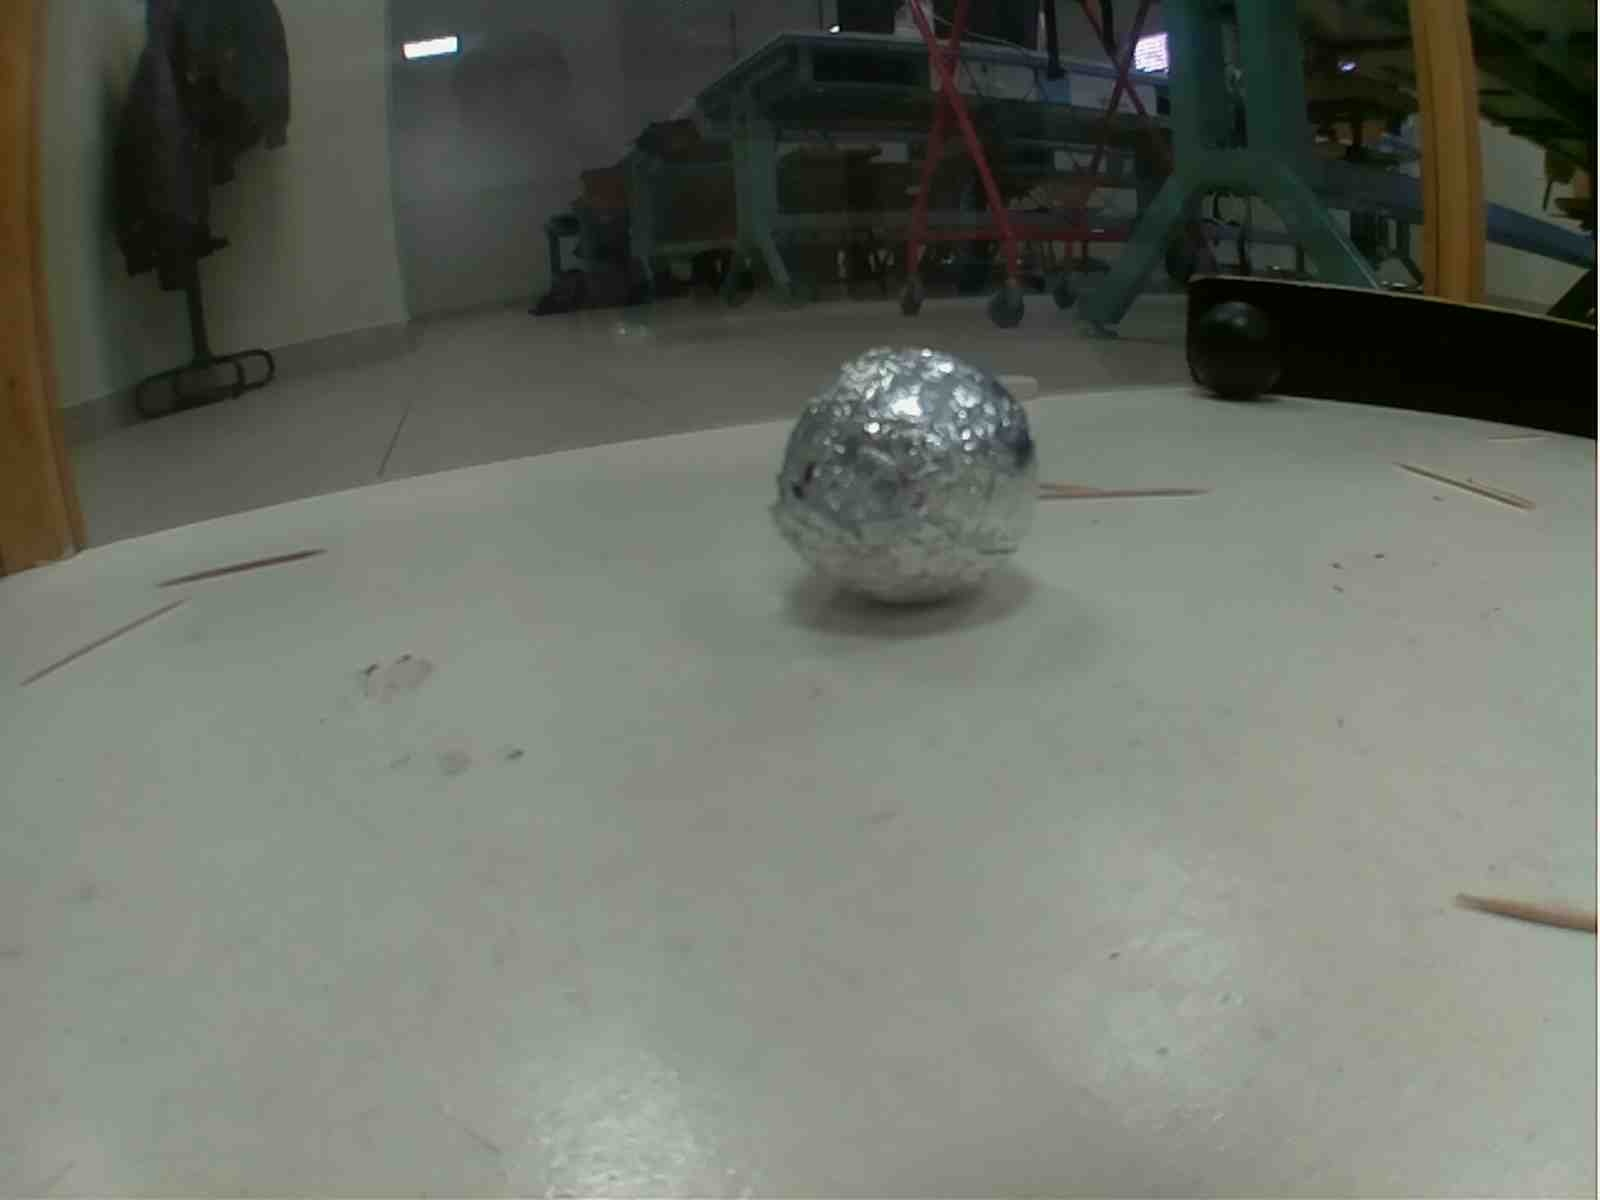bianca: (769, 344, 1044, 610)
nera: (1186, 296, 1285, 405)
